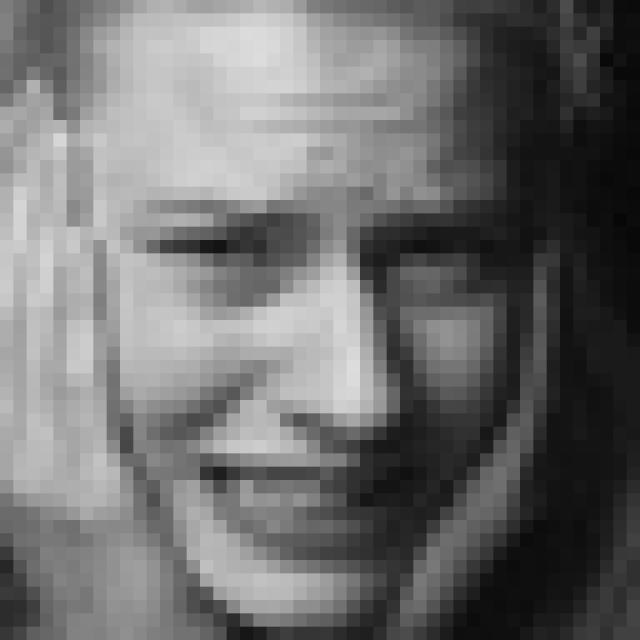fear: (80, 184, 525, 560)
